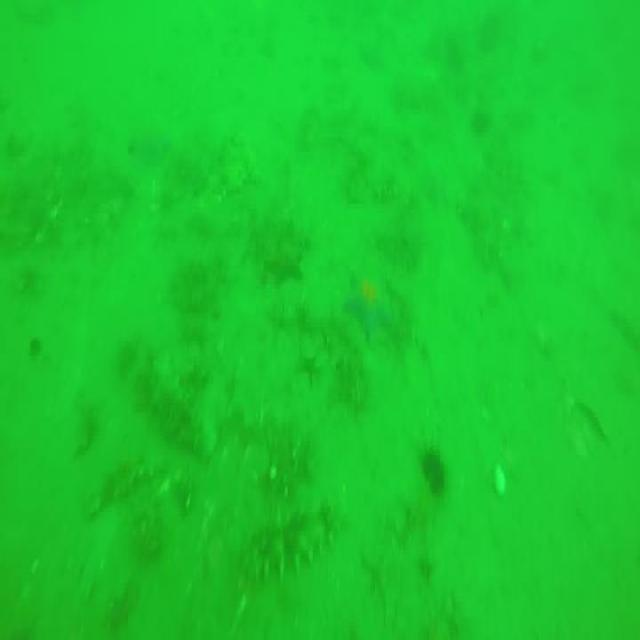echinus: (418, 449, 447, 490)
holothurian: (136, 357, 214, 457), (244, 498, 326, 584)
scallop: (129, 126, 174, 174), (493, 465, 507, 501)
starfish: (343, 266, 389, 348), (265, 245, 306, 281)
